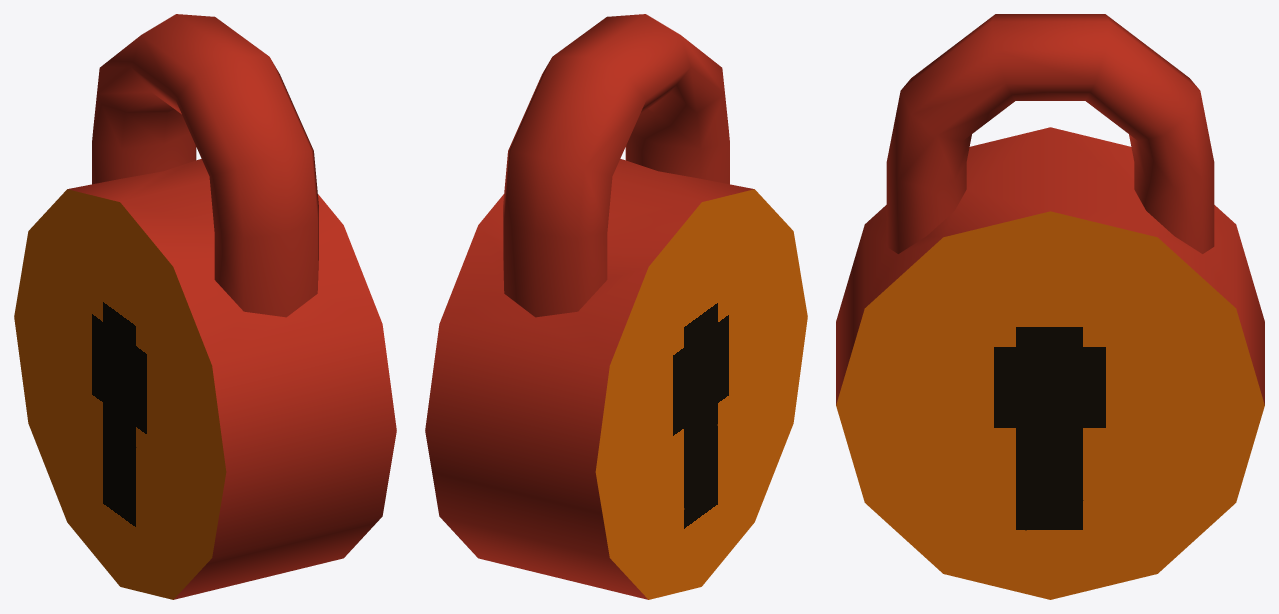
File: lock.fbx
3 views of the same model, side by side, from view 1: azimuth 30°, elevation 25°; view 2: azimuth 150°, elevation 25°; view 3: azimuth 270°, elevation 25° (orthographic).
Parts seen in each view (by area): view 1: lock; view 2: lock; view 3: lock.
Part boxes in pixels (x1,y1,x2,y2): lock: [14, 14, 396, 599]; lock: [425, 14, 807, 599]; lock: [836, 14, 1264, 599].
Bounding box in the file's own units: 46.38 × 138 × 100.
Materials: 1 (1 with a texture image).
